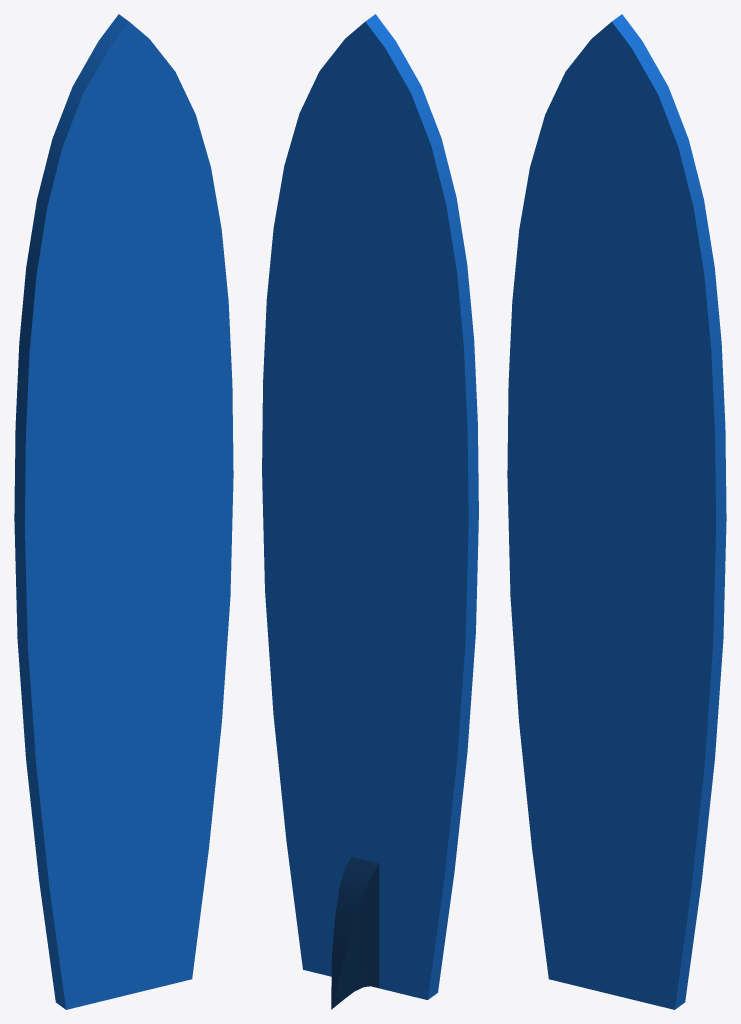
The model's file is 3D_Surfboard.FBX.
3 views of the same model, side by side, from view 1: azimuth 30°, elevation 25°; view 2: azimuth 150°, elevation 25°; view 3: azimuth 330°, elevation 25° (orthographic).
Visible parts, largest first — view 1: 3D_Surfboard; view 2: 3D_Surfboard; view 3: 3D_Surfboard.
Boxes of the visible parts, bbox=[...] form: 3D_Surfboard: bbox=[14, 14, 233, 1009]; 3D_Surfboard: bbox=[262, 14, 478, 1009]; 3D_Surfboard: bbox=[507, 14, 726, 1009].
Size of the model in its own units: 40 by 178 by 14.89.
